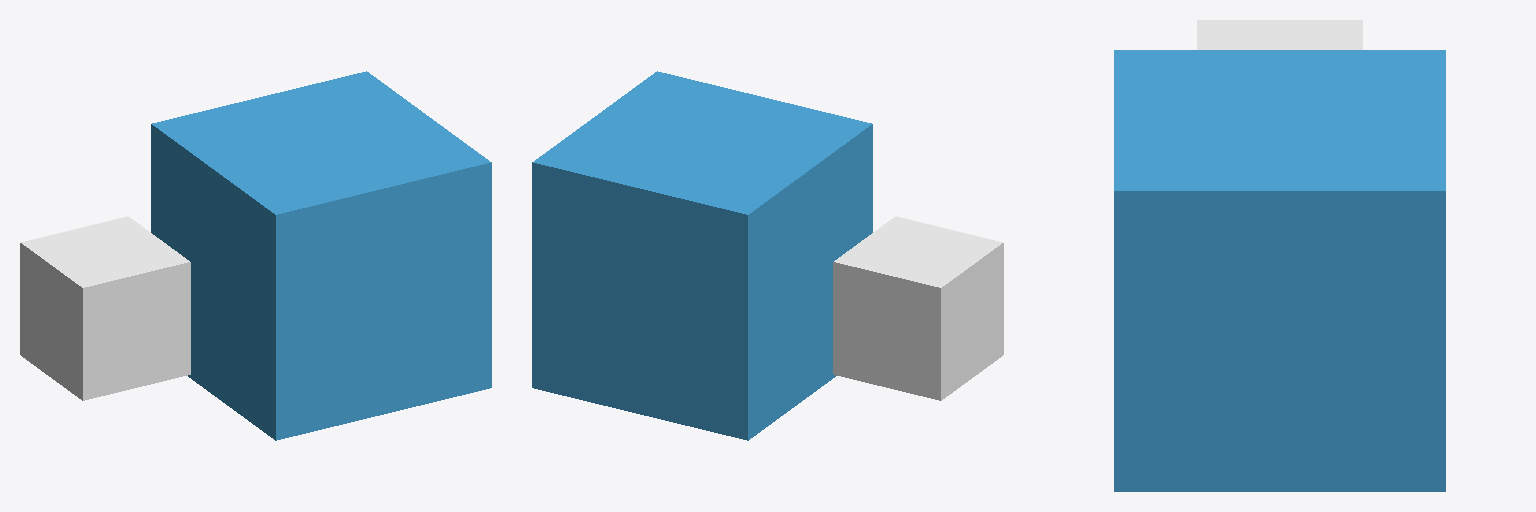
robot.urdf — ros_packages:
<?xml version="1.0"?>
<robot name="ros_packages">
  <material name="texture_material">
    <color rgba="1 1 1 1"/>
    <texture filename="package://test_texture_package/assets/grid.png"/>
  </material>

  <link name="BaseLink">
    <visual>
      <geometry>
        <box size="0.5 0.5 0.5"/>
      </geometry>
      <material name="texture_material"/>
    </visual>
  </link>
  <link name="link_mesh_stl">
    <visual>
      <geometry>
        <mesh filename="package://test_package/assets/box.stl"/>
      </geometry>
    </visual>
  </link>

  <joint name="root_joint" type="fixed">
    <origin rpy="0 0 0" xyz="1 0 0"/>
    <parent link="BaseLink"/>
    <child link="link_mesh_stl"/>
  </joint>
</robot> 

--- What the picture shows (computed from the rendered views, not written in the file) ---
Views: 3 orthographic renders of the robot side by side, from view 1: azimuth 30°, elevation 25°; view 2: azimuth 150°, elevation 25°; view 3: azimuth 270°, elevation 25°.
Robot: ros_packages — 2 links, 1 joints (1 fixed); root link BaseLink; default pose: every joint at zero.
Visible links, largest first — view 1: link_mesh_stl, BaseLink; view 2: link_mesh_stl, BaseLink; view 3: link_mesh_stl, BaseLink.
Boxes of the visible links, x1,y1,x2,y2 form: link_mesh_stl: [151, 71, 491, 440]; BaseLink: [20, 216, 190, 400]; link_mesh_stl: [532, 71, 872, 440]; BaseLink: [833, 216, 1003, 400]; link_mesh_stl: [1114, 50, 1445, 491]; BaseLink: [1197, 20, 1362, 49].
Bounding box of the posed robot: 1.75 × 1 × 1 m (x, y, z).
1 mesh visuals loaded from 1 distinct referenced files (1 ASCII STL).